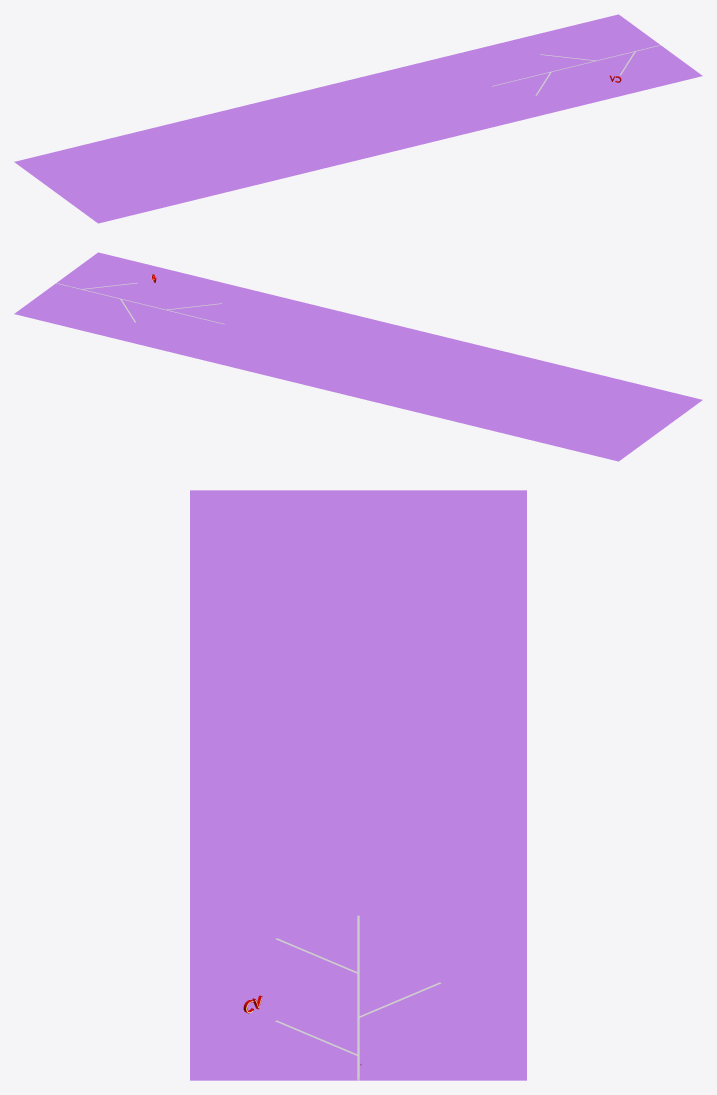
The picture shows the model from 3 angles, top to bottom: view 1: azimuth 30°, elevation 25°; view 2: azimuth 150°, elevation 25°; view 3: azimuth 270°, elevation 25°; orthographic projection. The views are drawn at different scales.
Parts seen in each view (by area): view 1: Plane; view 2: Plane; view 3: Plane.
Part boxes in pixels (<box>): Plane: <box>14,14,702,223</box>; Plane: <box>14,252,702,461</box>; Plane: <box>190,490,526,1080</box>.
Size of the model in its own units: 1793 by 16.75 by 433.
